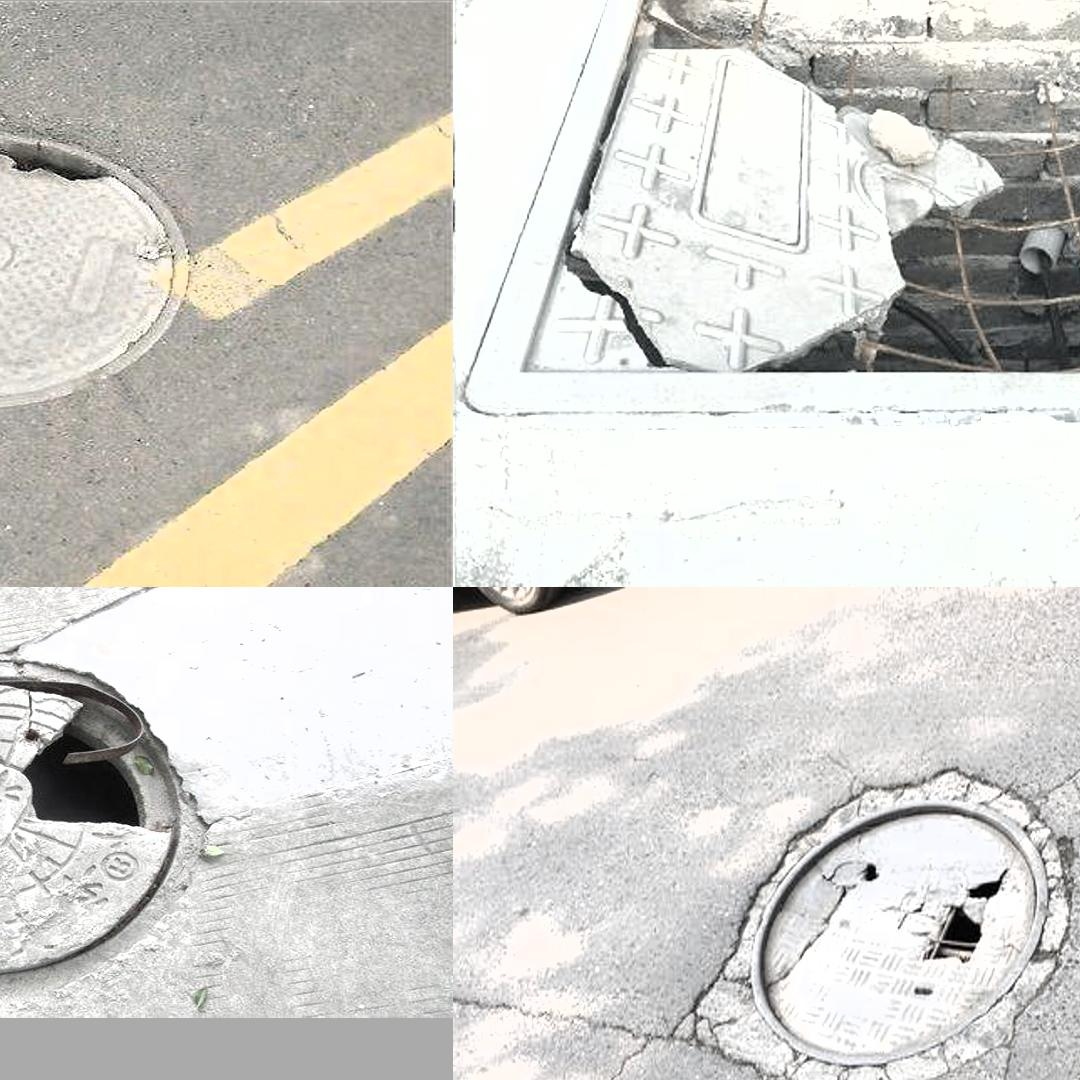broke: (503, 0, 1080, 480), (692, 762, 1075, 1080), (0, 648, 213, 993), (0, 131, 187, 408)
